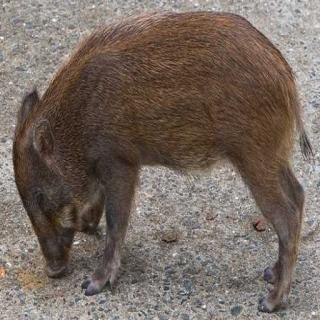Pig: (4, 15, 311, 303)
